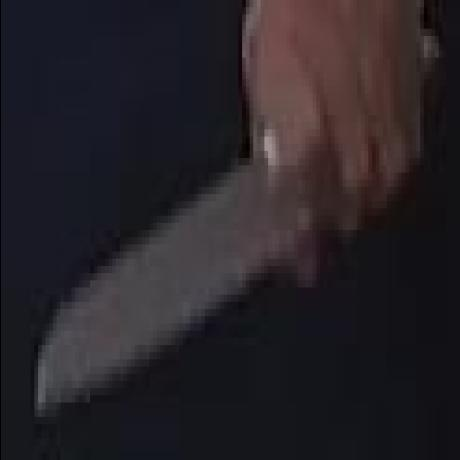weapon: (33, 130, 302, 424)
